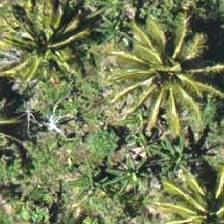Kelapa_Sawit: (123, 30, 213, 120), (0, 8, 78, 98), (160, 168, 223, 223)
